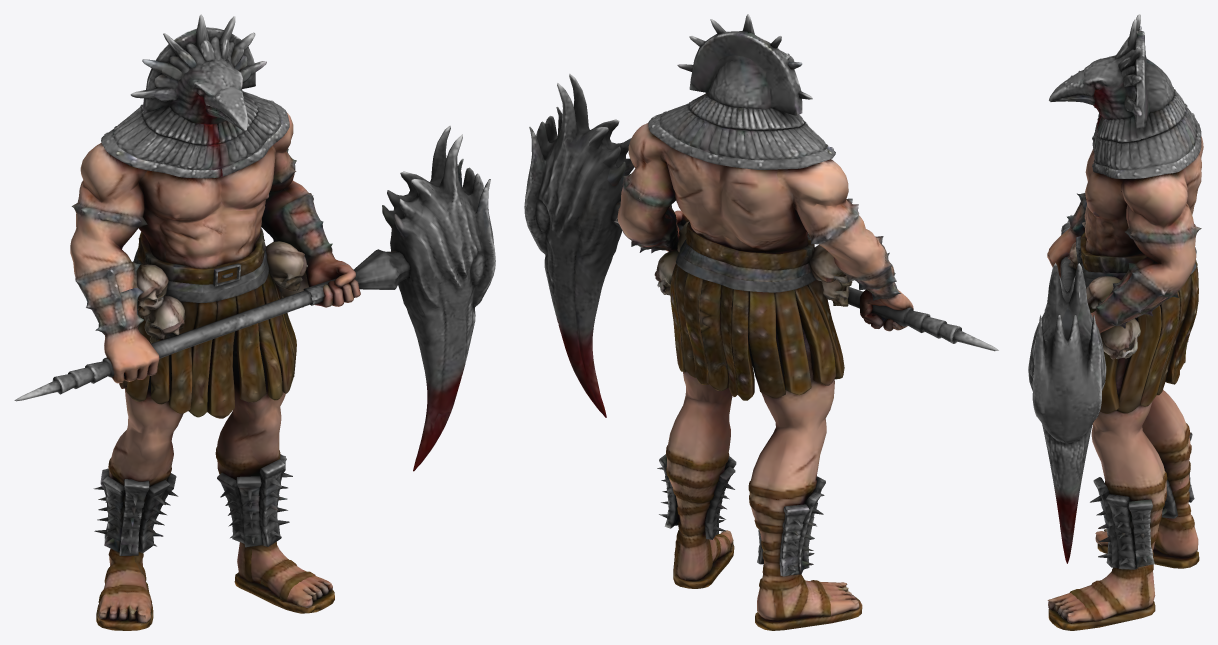
Rendered from MZ4250 - Relentless Juggernaut.glb.
The picture shows the model from 3 angles, left to right: view 1: azimuth 30°, elevation 25°; view 2: azimuth 150°, elevation 25°; view 3: azimuth 270°, elevation 25°; orthographic projection. The views are drawn at different scales.
Parts seen in each view (by area): view 1: Body.002; view 2: Body.002; view 3: Body.002.
Part boxes in pixels (<box>): Body.002: <box>14,14,495,630</box>; Body.002: <box>524,14,998,630</box>; Body.002: <box>1028,14,1203,630</box>.
Size of the model in its own units: 87.22 by 103 by 28.95.
Materials: 1 (1 with a texture image).
